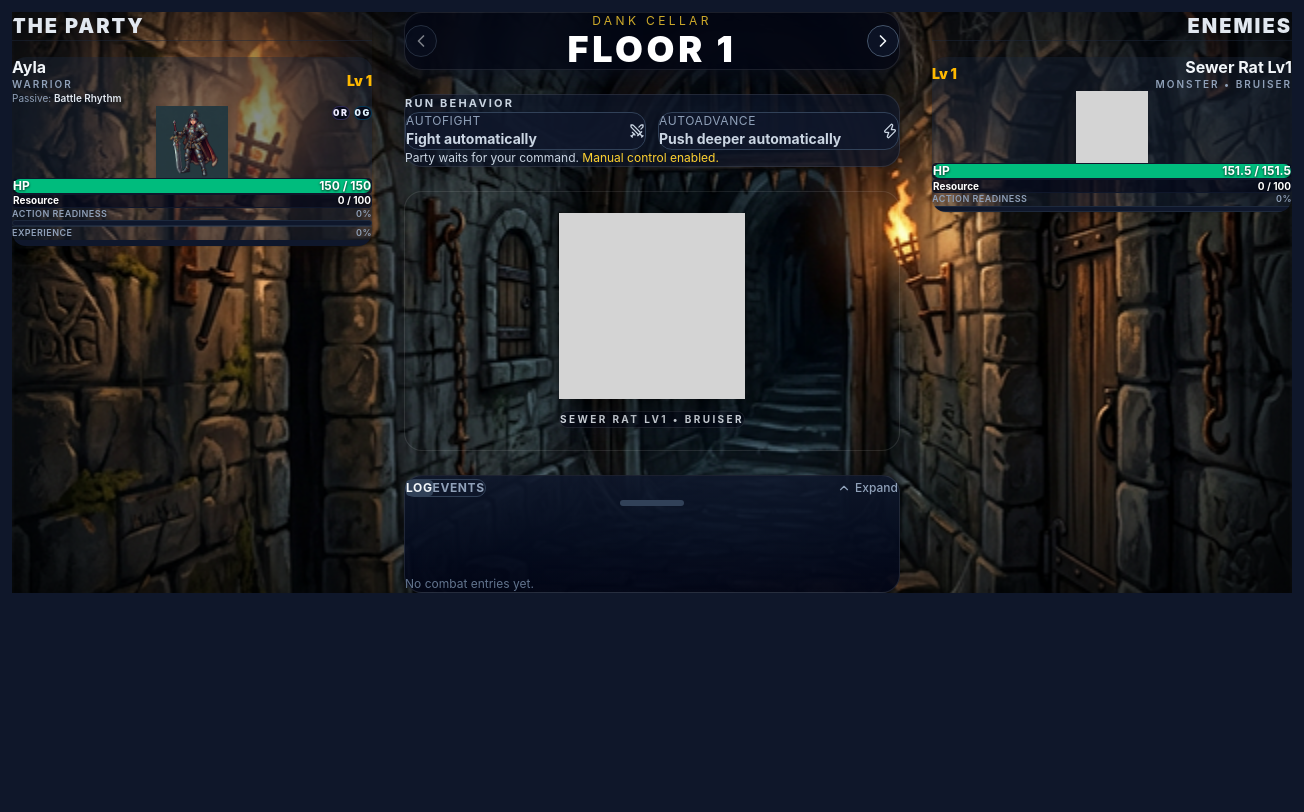
Test case: MainGameView › toggles autofight and autoadvance from the run behavior controls
Expected: the text "Manual control enabled." is shown, [582,150,719,164]
Click the button "Autofight Fight automatically": point(526, 130) [405,112,646,150]
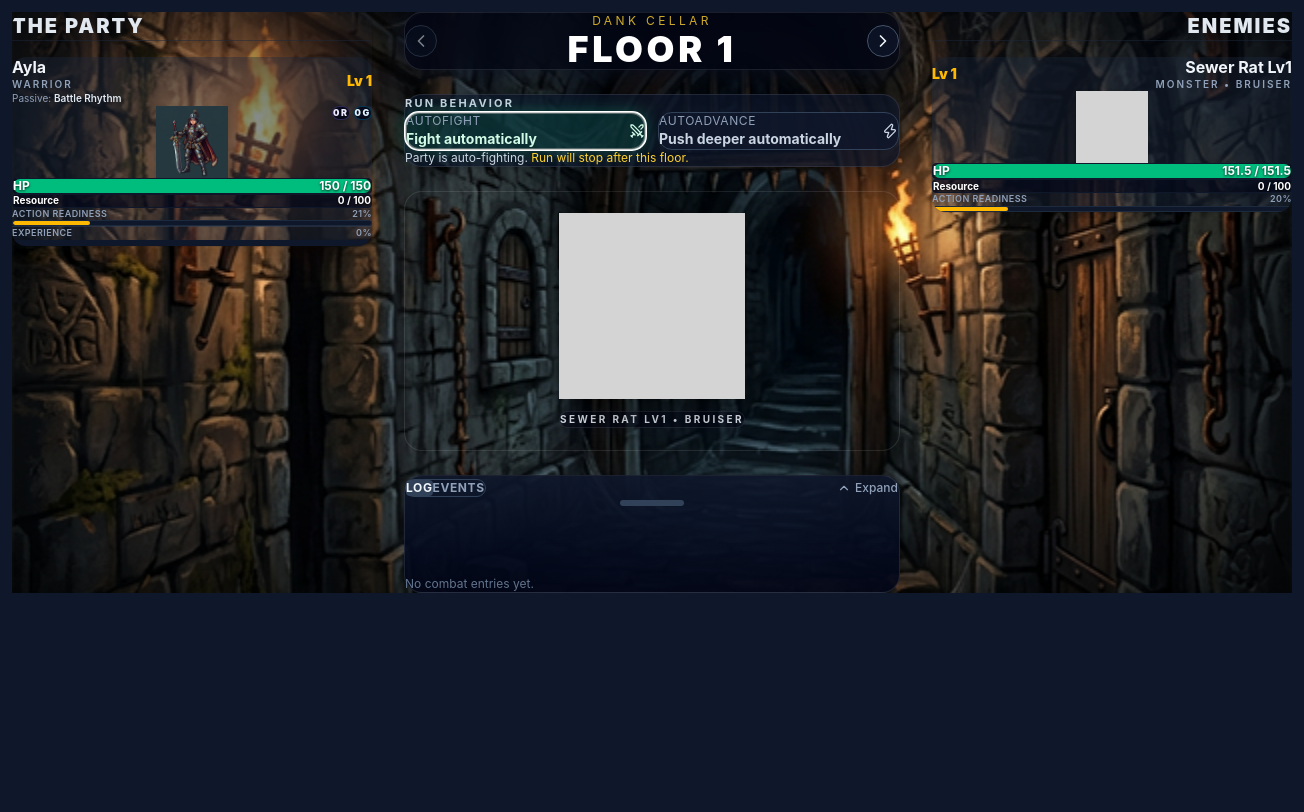
Result: the text "Run will stop after this floor." is shown at [531,150,689,164]
Click the button "Autoadvance Push deeper automatically": point(778, 130) [658,112,899,150]
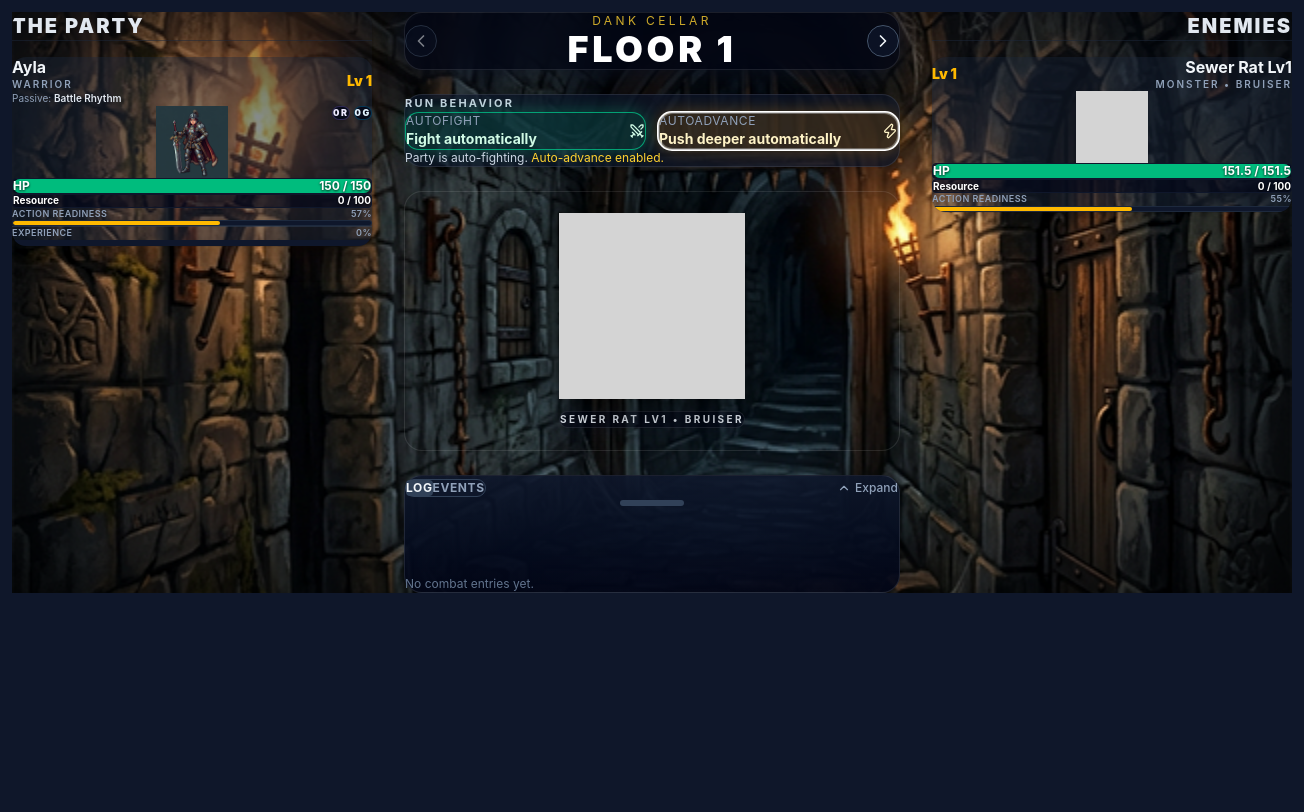
Result: the text "Auto-advance enabled." is shown at [531,150,664,164]
